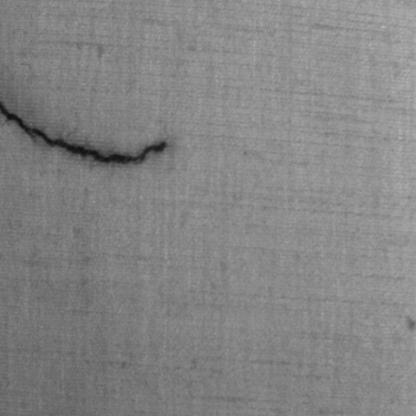objects: (0, 98, 170, 168)
